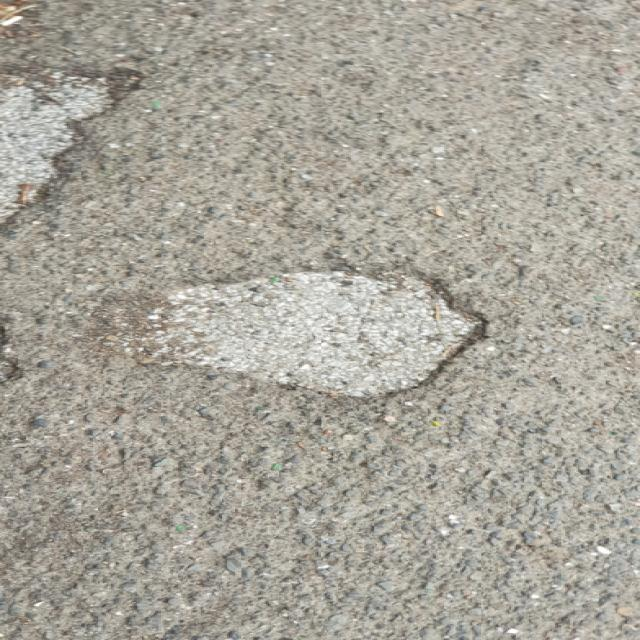pothole: (101, 259, 492, 402), (0, 66, 140, 240)
